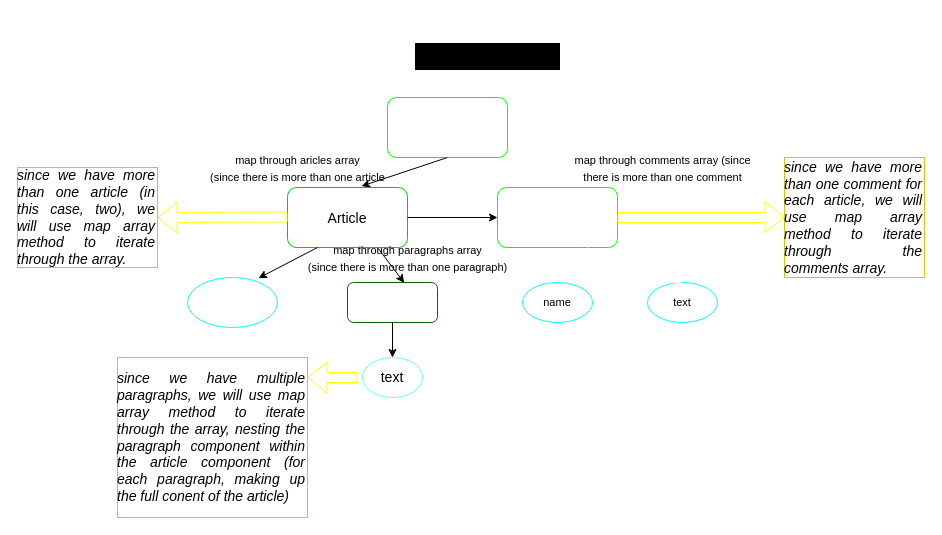
This 942x535 diagram has some shape labels left out. The shapes that lost their labels are listed below. From the top down, each one's centre as x and y in pixels, then its label:
pixel 447 127: App
pixel 557 217: Comments
pixel 232 302: title
pixel 392 302: Paragraphs
